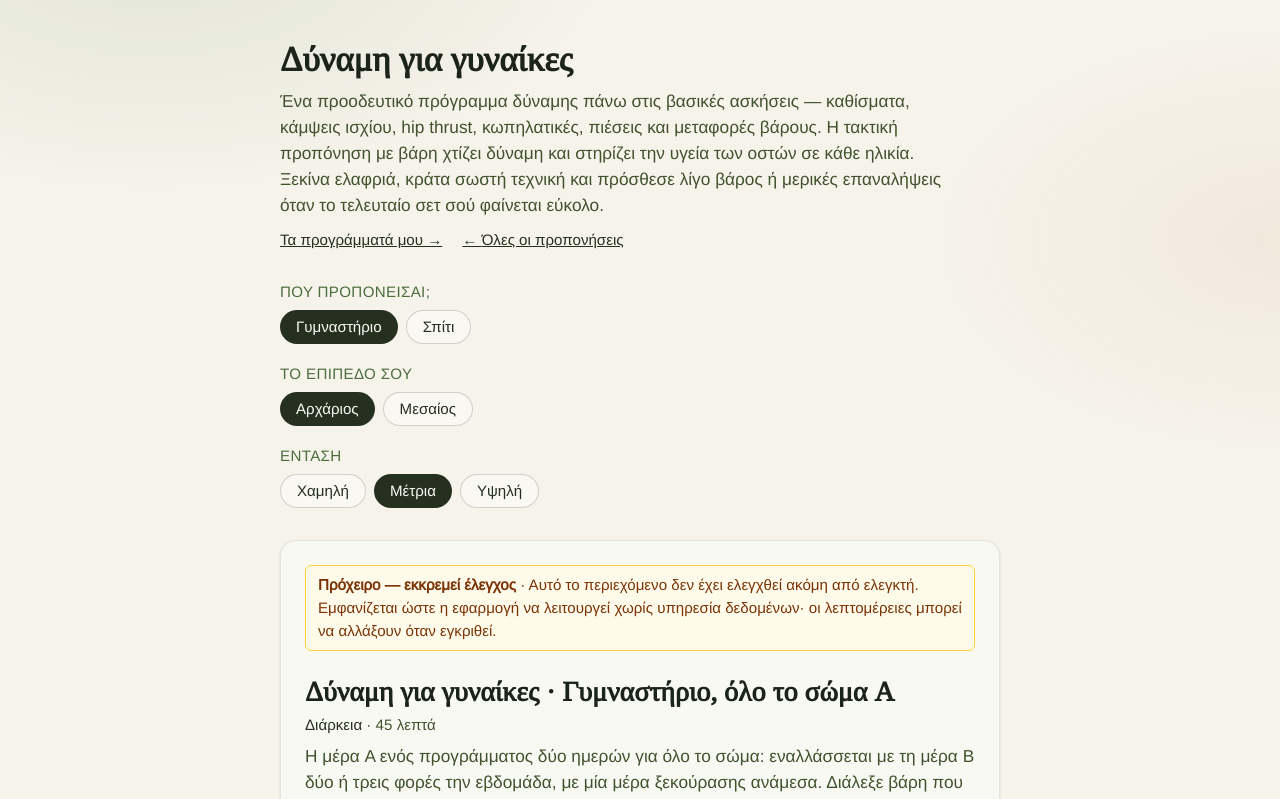
Test: <WorkoutsPage> — the women’s strength track (?track=women-strength) › stays on the track when a chip changes, and renders in Greek
Expected: the heading "Δύναμη για γυναίκες" is shown, [280,36,573,80]
Click the radio button labelled "Σπίτι" at (438, 327), box [406,310,471,344]
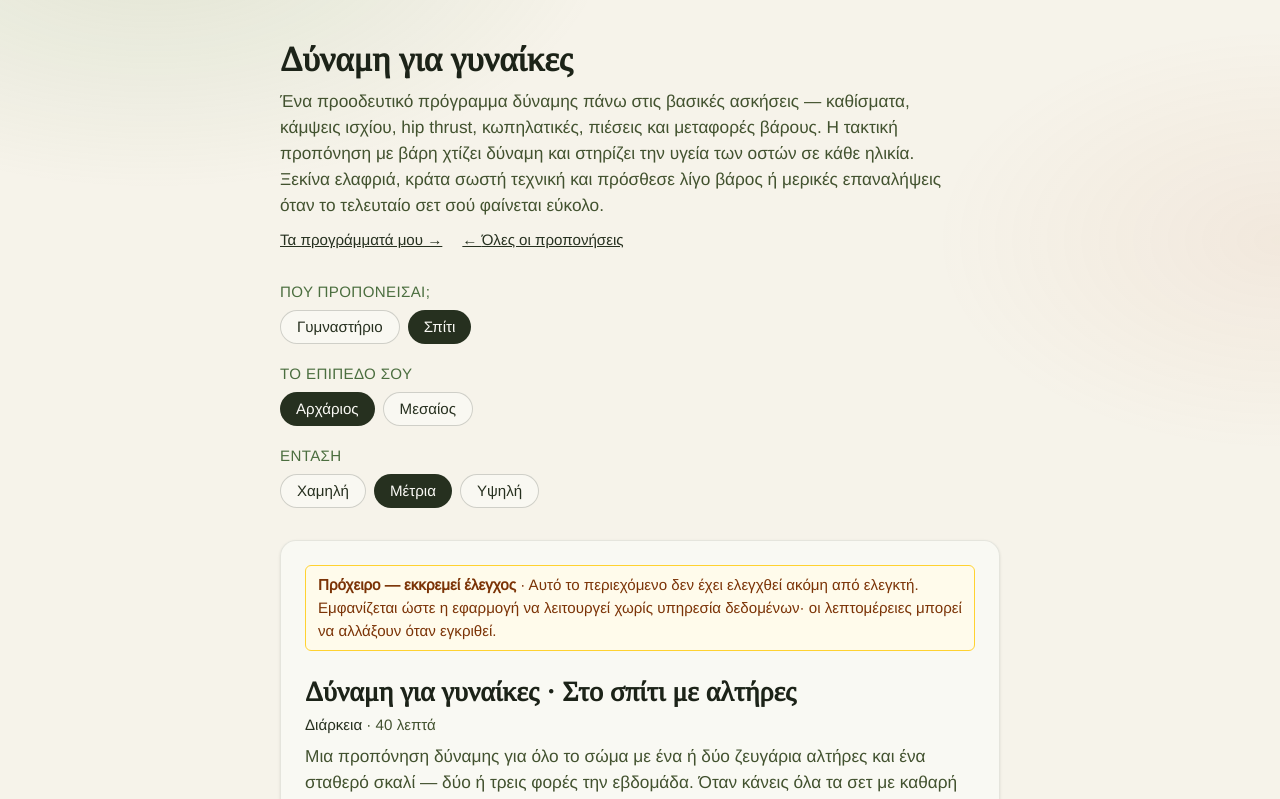
Expected: the heading "Δύναμη για γυναίκες · Στο σπίτι με αλτήρες" is shown, [305,673,796,708]
